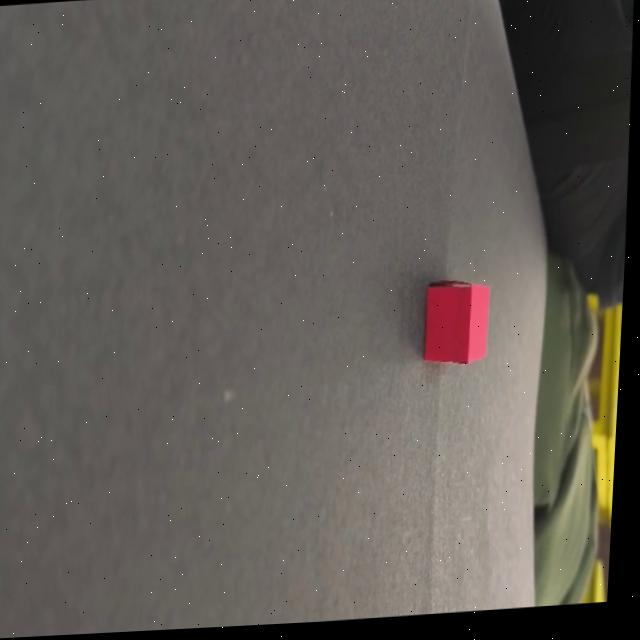red block: (420, 275, 492, 368)
